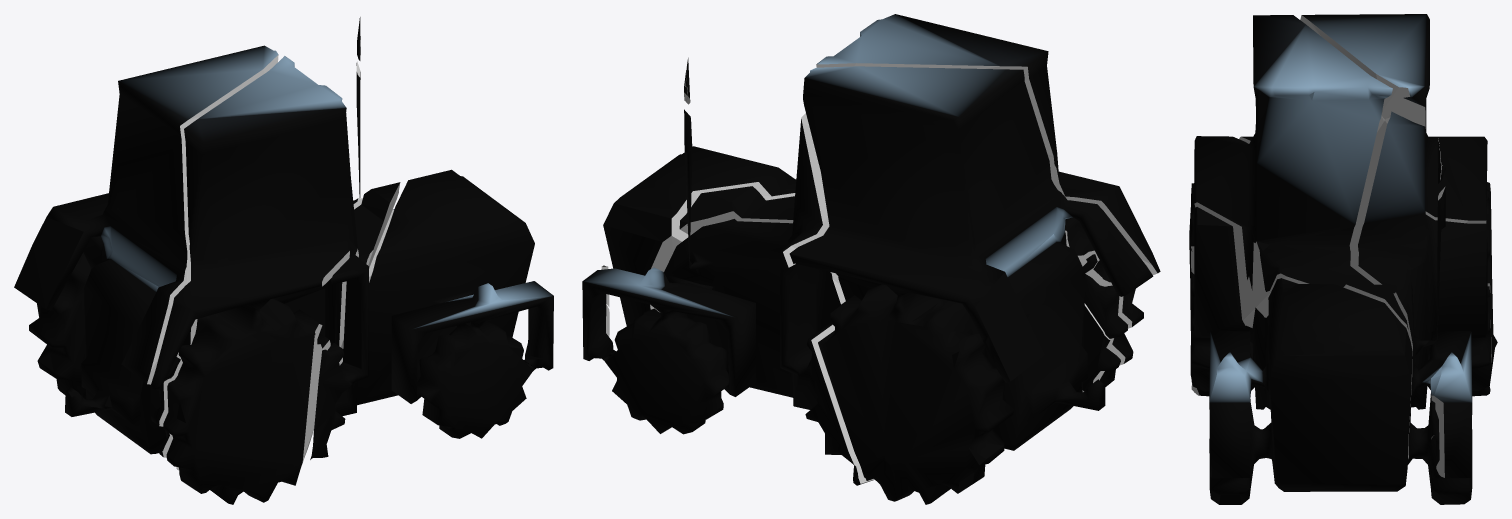
The model's file is Tractors.glb.
The picture shows the model from 3 angles, left to right: view 1: azimuth 30°, elevation 25°; view 2: azimuth 150°, elevation 25°; view 3: azimuth 270°, elevation 25°; orthographic projection. The views are drawn at different scales.
Visible parts, largest first — view 1: Root, Root.001, Root.005, Root.006, Root.007; view 2: Root.001, Root.006, Root, Root.005, Root.007, Root.002; view 3: Root.005, Root, Root.006, Root.001.
Boxes of the visible parts, x1,y1,x2,y2 form: Root: [151, 56, 400, 504]; Root.001: [14, 45, 278, 454]; Root.005: [310, 169, 553, 459]; Root.006: [339, 61, 394, 365]; Root.007: [150, 352, 182, 426]; Root.001: [789, 66, 1153, 504]; Root.006: [582, 109, 874, 485]; Root: [679, 14, 1160, 391]; Root.005: [603, 146, 796, 325]; Root.007: [1083, 254, 1127, 338]; Root.002: [1083, 303, 1120, 391]; Root.005: [1190, 207, 1412, 504]; Root: [1189, 15, 1408, 396]; Root.006: [1349, 111, 1491, 504]; Root.001: [1239, 14, 1497, 380].
Bounding box in the file's own units: 4.33 × 3.37 × 2.61.
